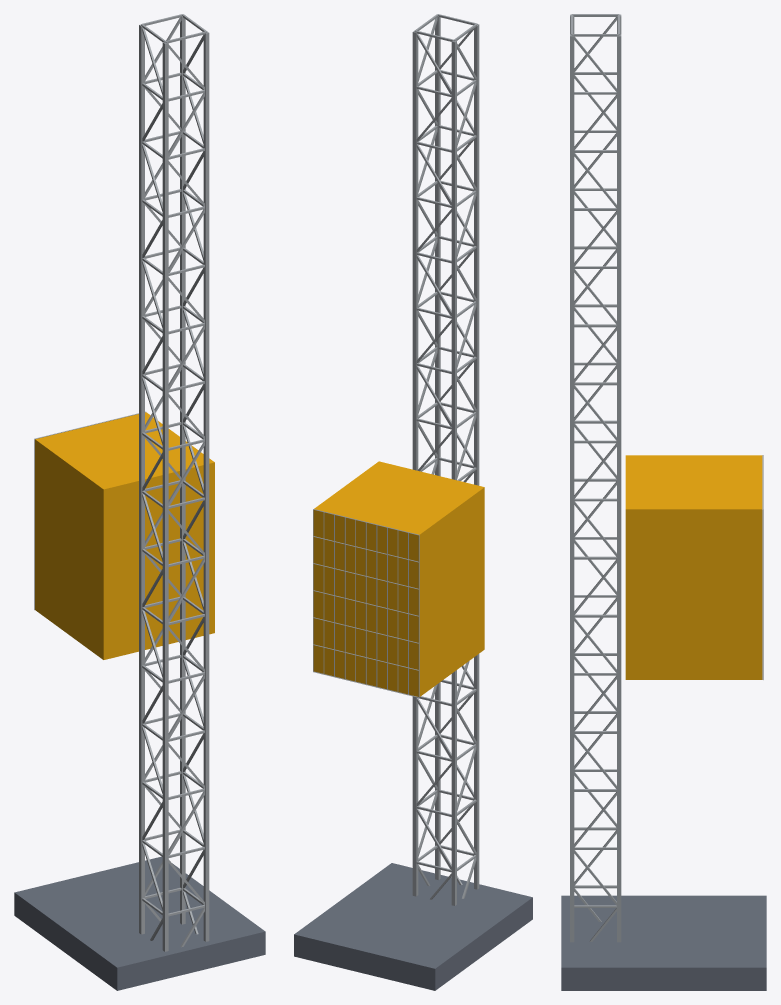
Rendered from plant.lifting.goods_hoist.glb.
3 views of the same model, side by side, from view 1: azimuth 30°, elevation 25°; view 2: azimuth 150°, elevation 25°; view 3: azimuth 270°, elevation 25° (orthographic). The views are drawn at different scales.
Visible parts, largest first — view 1: main__steel_galvanised, main__plant_yellow, main__steel_painted; view 2: main__plant_yellow, main__steel_galvanised, main__steel_painted; view 3: main__plant_yellow, main__steel_galvanised, main__steel_painted.
Boxes of the visible parts, left/top/right/bottom form: main__steel_galvanised: left=34, top=14, right=209, bottom=951; main__plant_yellow: left=35, top=412, right=214, bottom=659; main__steel_painted: left=14, top=856, right=265, bottom=990; main__plant_yellow: left=313, top=461, right=484, bottom=696; main__steel_galvanised: left=313, top=14, right=479, bottom=905; main__steel_painted: left=294, top=863, right=532, bottom=990; main__plant_yellow: left=625, top=455, right=762, bottom=679; main__steel_galvanised: left=570, top=14, right=763, bottom=942; main__steel_painted: left=561, top=895, right=766, bottom=990.
Bounding box in the file's own units: 2 × 12.02 × 2.4.
